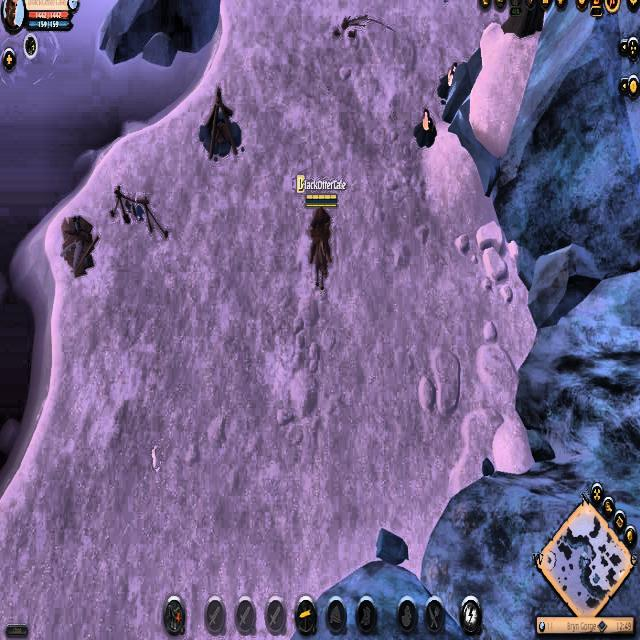copperore: (435, 60, 462, 104), (414, 108, 439, 150)
